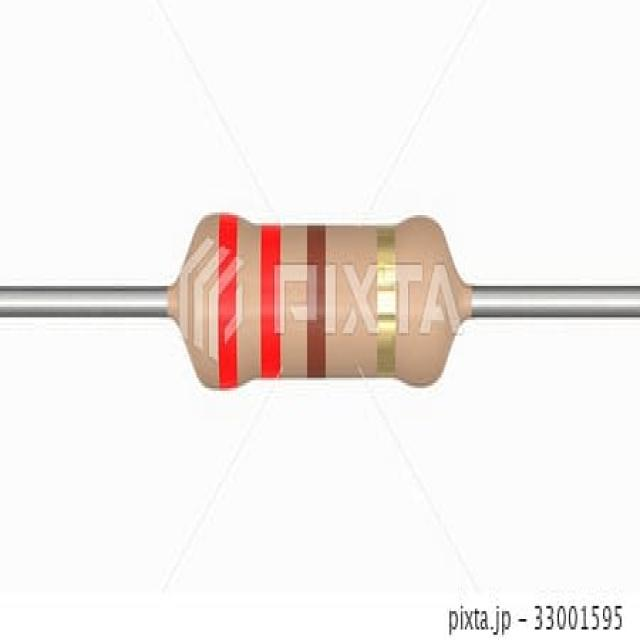Resistor: (169, 215, 469, 386)
brown: (303, 216, 329, 382)
gold: (375, 223, 399, 388)
red: (261, 216, 284, 382), (220, 208, 238, 398)
